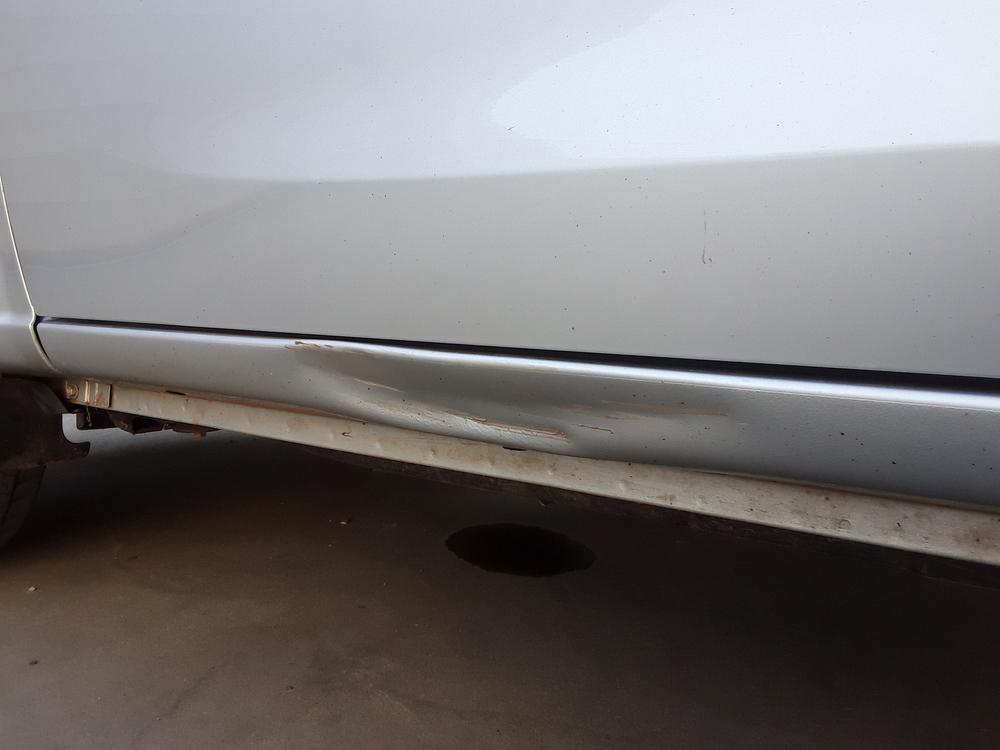dent: (293, 345, 728, 445)
